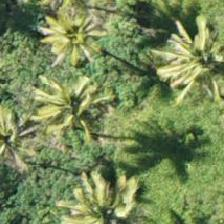coconut_tree: (23, 63, 113, 153), (28, 0, 118, 88), (158, 13, 223, 103), (56, 175, 146, 223)
